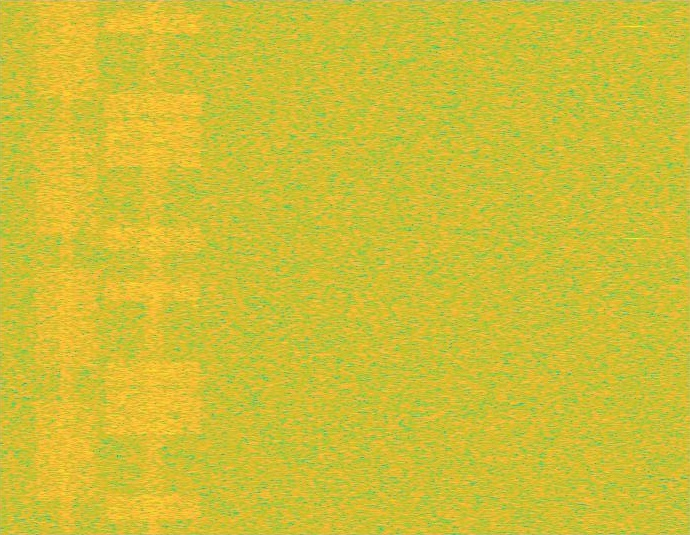5G: (32, 0, 101, 534)
DSSS: (142, 0, 165, 534), (59, 0, 74, 534)
LTE: (102, 0, 205, 534)
Radar: (628, 0, 642, 534)
